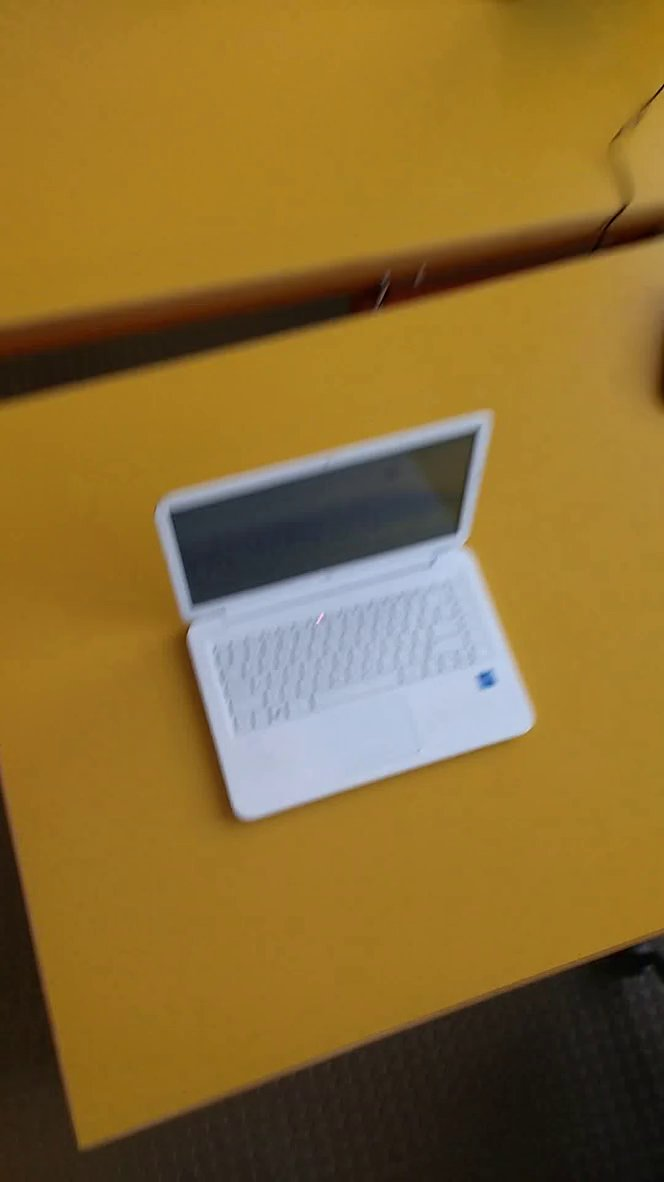laptop: (151, 400, 543, 829)
